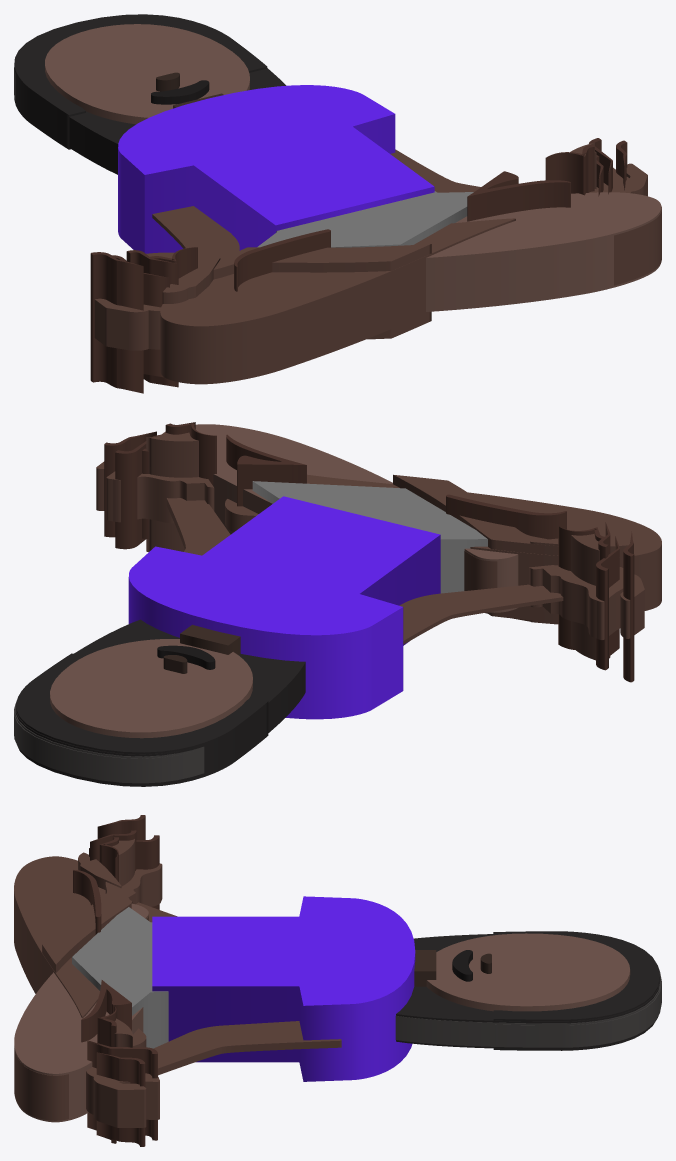
Rendered from emoji_u1f9d8_1f3ff_200d_2640.glb.
The picture shows the model from 3 angles, top to bottom: view 1: azimuth 30°, elevation 25°; view 2: azimuth 150°, elevation 25°; view 3: azimuth 270°, elevation 25°; orthographic projection. The views are drawn at different scales.
Visible parts, largest first — view 1: emoji_u1f9d8_1f3ff_200d_2640; view 2: emoji_u1f9d8_1f3ff_200d_2640; view 3: emoji_u1f9d8_1f3ff_200d_2640.
Part boxes in pixels (left/top/right/bottom): emoji_u1f9d8_1f3ff_200d_2640: left=14, top=14, right=661, bottom=393; emoji_u1f9d8_1f3ff_200d_2640: left=14, top=422, right=661, bottom=786; emoji_u1f9d8_1f3ff_200d_2640: left=14, top=815, right=661, bottom=1146.
Size of the model in its own units: 0.0294 by 0.0068 by 0.034.
